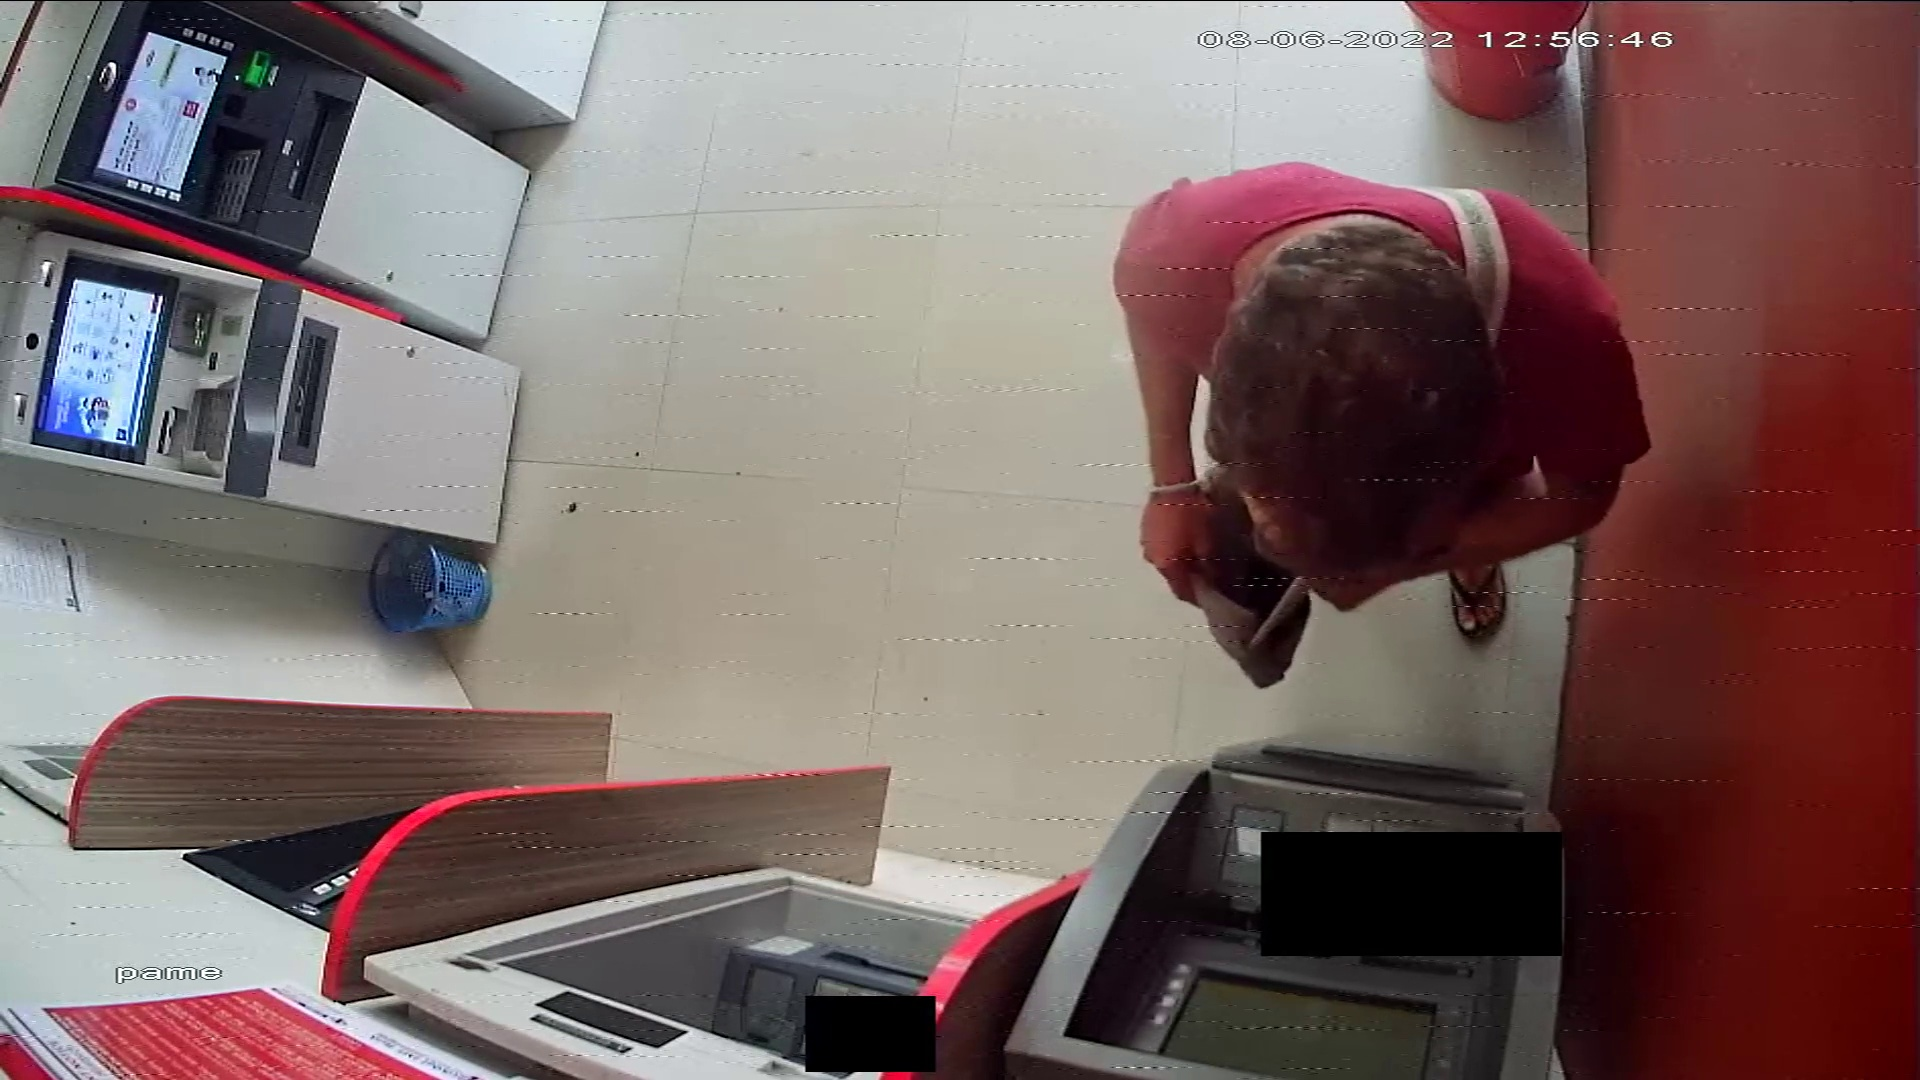person: (1112, 155, 1654, 686)
